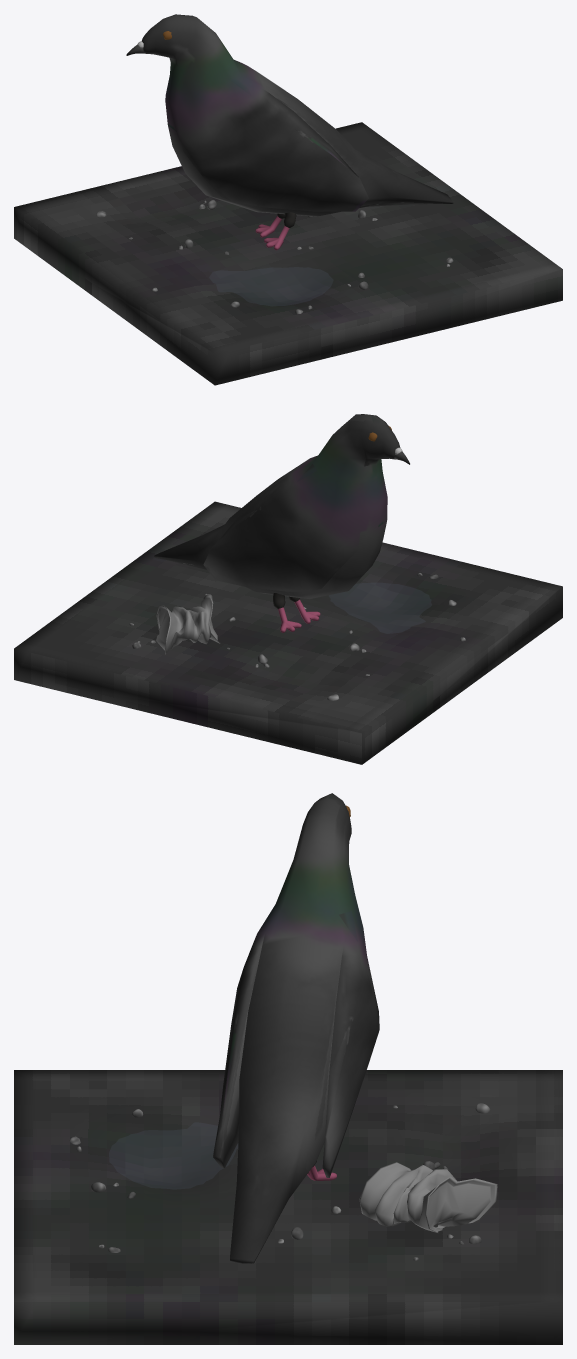
The model's file is pigeon.glb.
3 renders of one model, top to bottom at view 1: azimuth 30°, elevation 25°; view 2: azimuth 150°, elevation 25°; view 3: azimuth 270°, elevation 25°, orthographic. The views are drawn at different scales.
Parts seen in each view (by area): view 1: Plane, Cube, Cube.006; view 2: Plane, Cube, Circle, Cube.006; view 3: Plane, Cube, Circle.
Part boxes in pixels (bbox=[...]): Plane: bbox=[14, 122, 562, 385]; Cube: bbox=[142, 14, 453, 216]; Cube.006: bbox=[255, 216, 289, 250]; Plane: bbox=[14, 501, 562, 764]; Cube: bbox=[154, 414, 400, 599]; Circle: bbox=[156, 596, 220, 654]; Cube.006: bbox=[278, 599, 320, 632]; Plane: bbox=[14, 1070, 562, 1344]; Cube: bbox=[213, 793, 379, 1263]; Circle: bbox=[359, 1162, 497, 1232].
Size of the model in its own units: 0.3528 by 0.2594 by 0.3528.
Materials: 12 (12 with a texture image).
